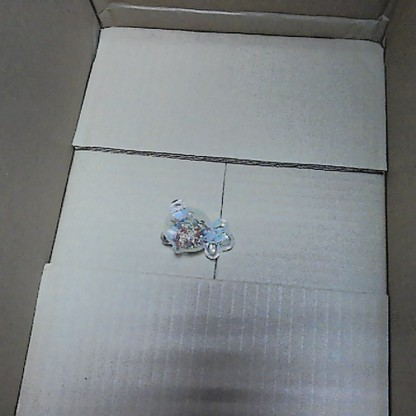whitefish: (156, 188, 233, 260)
